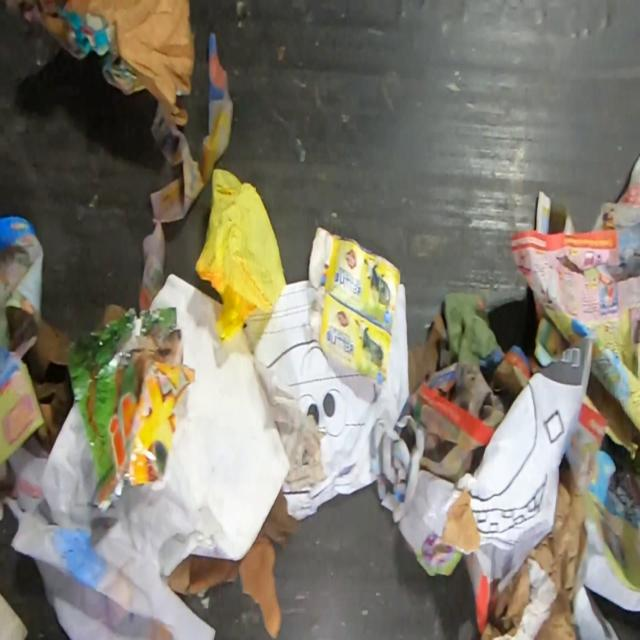cardboard: (476, 464, 588, 639), (62, 0, 197, 129), (307, 226, 402, 384), (408, 311, 456, 397), (0, 592, 30, 639)
